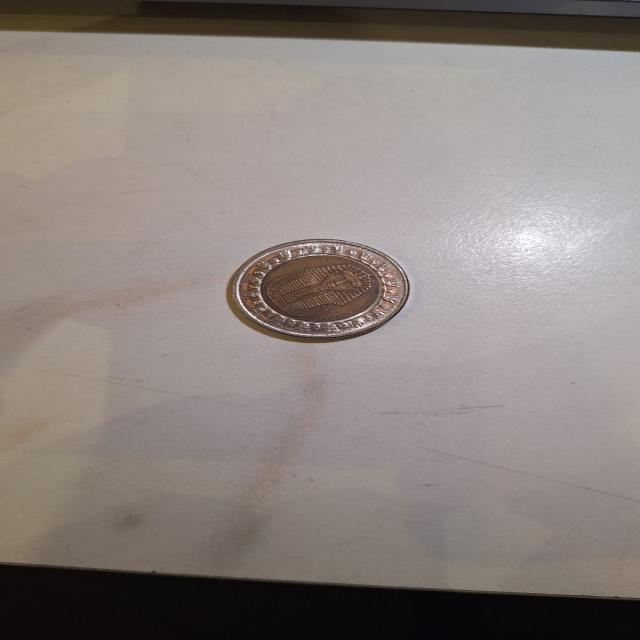One Pound: (212, 234, 420, 344)
